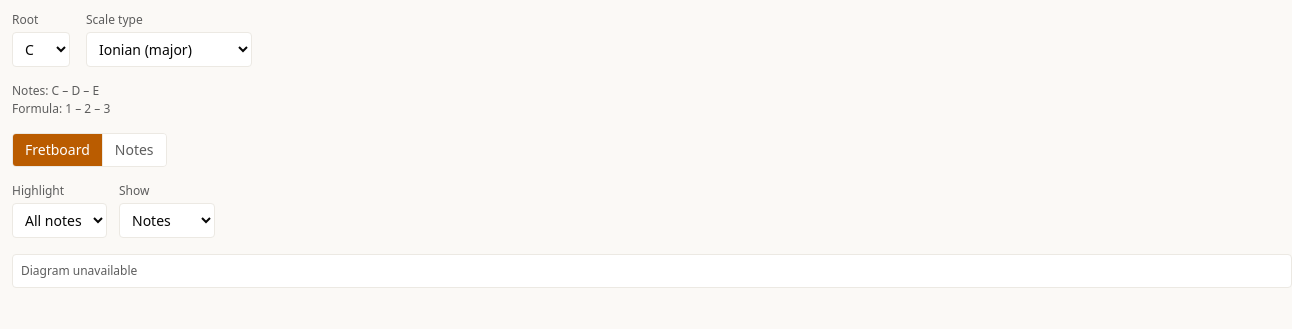
Test: ScalePanel › renders the position selector in notes mode
# Position selector is only visible in notes mode (default is fretboard)
Click the button "Notes": x=134, y=150 [102, 134, 166, 166]
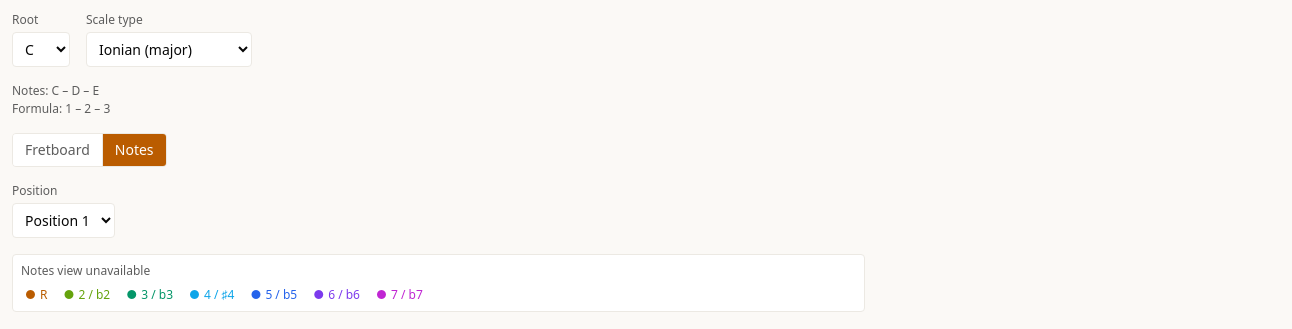
expect the dropdown labelled "Position" is shown: met, box [12, 203, 115, 238]
